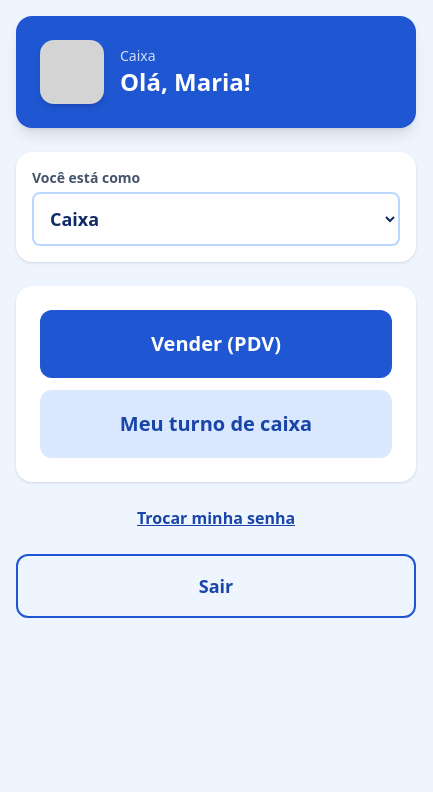
Test: troca de perfil na tela inicial › quem tem dois perfis troca; o menu muda e o banco é avisado
The image size is (433, 792).
Expected: the link "Vender (PDV)" is shown, [40,310,392,378]
Expected: the text "Eventos e chaves Pix" is not shown
Select "Conselho Econômico" in the dropdown named "Trocar perfil" at (216, 219), box [32,192,400,246]
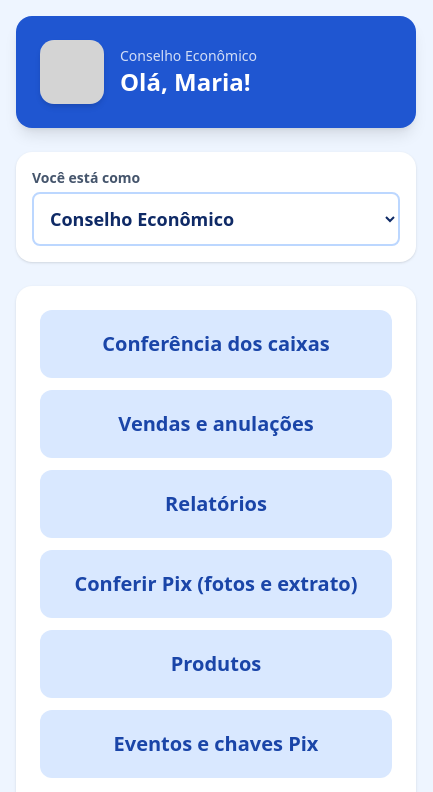
Result: the link "Eventos e chaves Pix" is shown at [40,710,392,778]
Result: the link "Vender (PDV)" is gone
